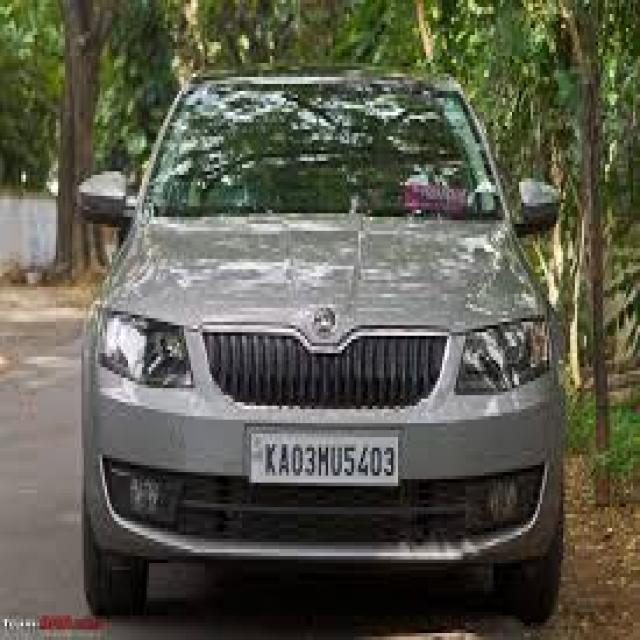Number-Plate: (252, 433, 400, 483)
